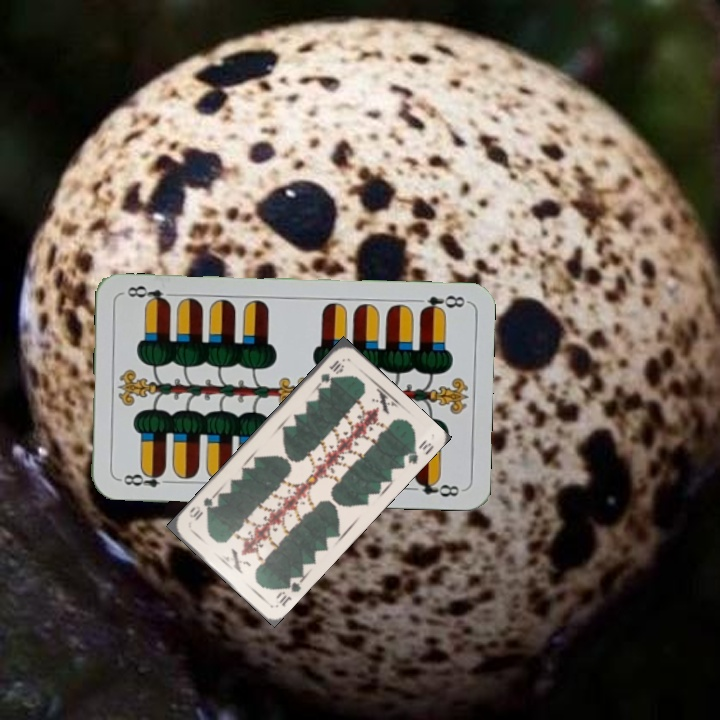E8: (115, 466, 174, 490), (416, 291, 469, 316)
G10: (272, 575, 305, 609), (314, 356, 346, 391)
